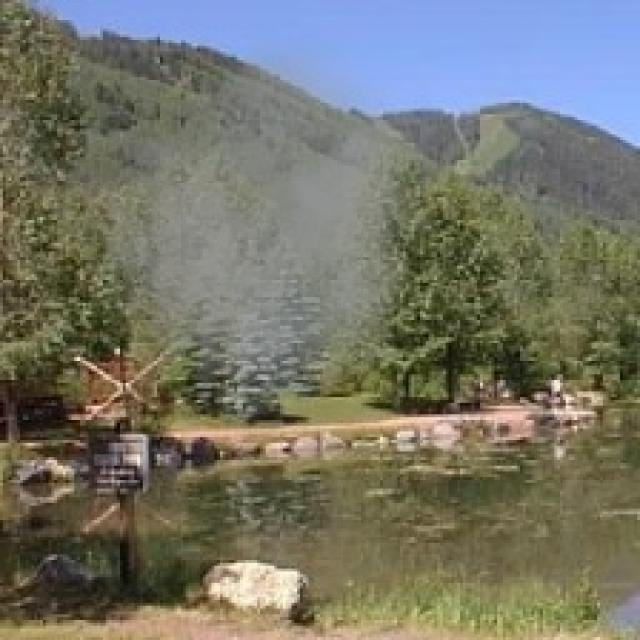smoke: (60, 23, 429, 443)
